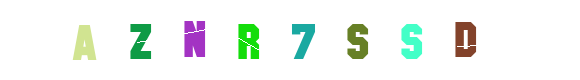7: (251, 0, 331, 80)
A: (100, 0, 180, 80)
D: (374, 0, 454, 80)
N: (154, 0, 234, 80)
R: (208, 0, 288, 80)
S: (261, 0, 341, 80), (358, 0, 438, 80)
Z: (113, 0, 193, 80)
